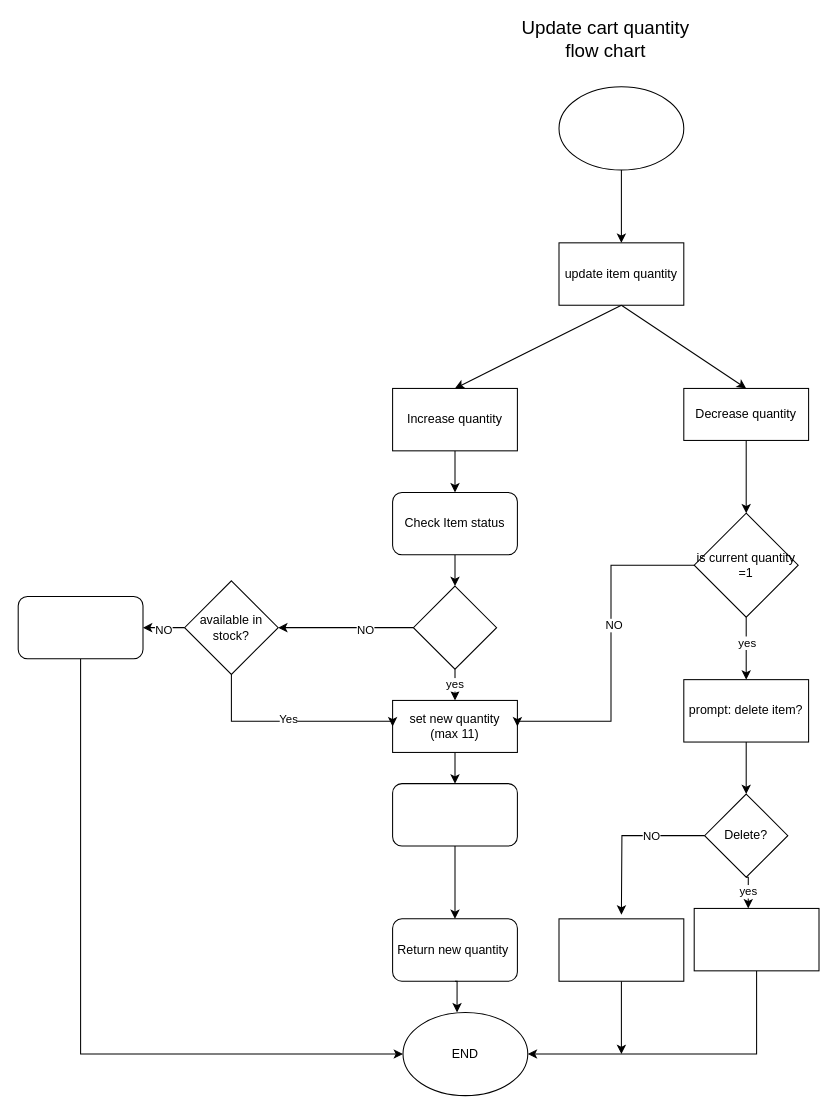
The diagram is 837 pixels wide and 1114 high, and some of its shapes have lost their labels. The centre of each missing label's shape, as x and y in pixels:
calculate new price: pixel 454 814
on demand?: pixel 454 627
remove item from cart: pixel 756 939
return: pixel 621 949
Return insufficient amount: pixel 80 627
Start: pixel 621 128
